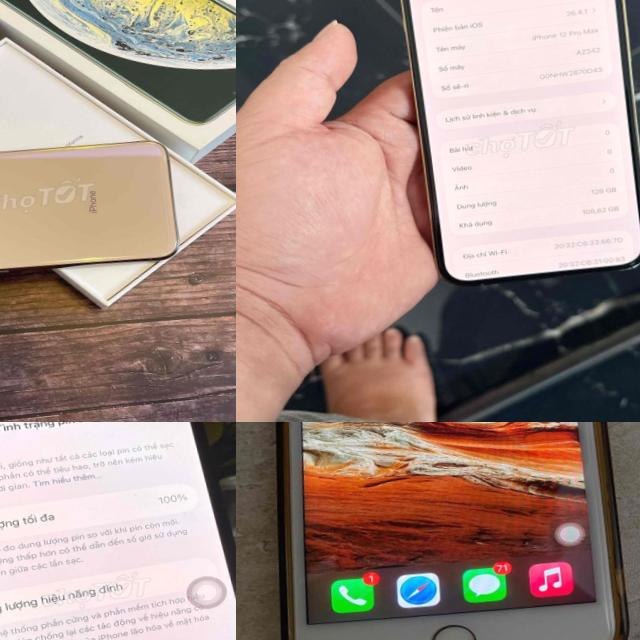gen_12_13: (387, 0, 640, 299), (0, 422, 236, 640)
gen_6: (276, 422, 626, 640)
gen_x_xs: (0, 115, 201, 309)
